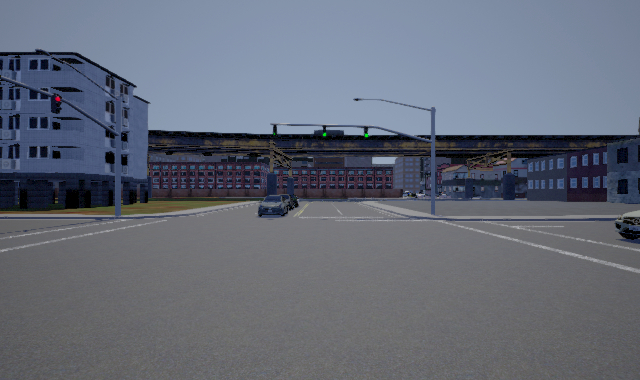traffic_light: (51, 95, 62, 114), (273, 124, 277, 137), (364, 126, 368, 138), (323, 125, 326, 138)
vehicle: (614, 210, 640, 240), (258, 194, 287, 217)
